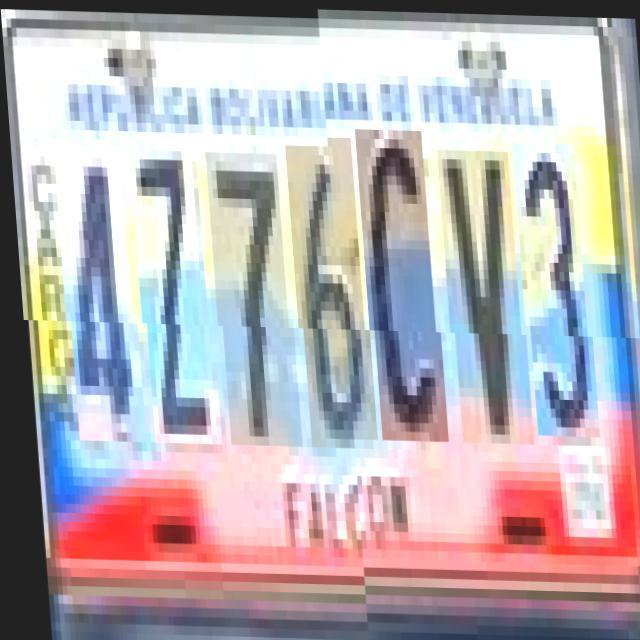3: (515, 149, 594, 443)
4: (56, 148, 140, 442)
6: (288, 144, 372, 447)
7: (208, 151, 296, 445)
C: (358, 136, 443, 449)
V: (440, 157, 528, 450)
Z: (132, 149, 216, 443)
